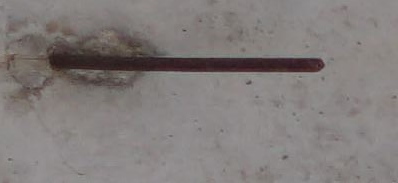Exposed reinforcement: (48, 53, 326, 73)
Spalling: (5, 27, 146, 90)
